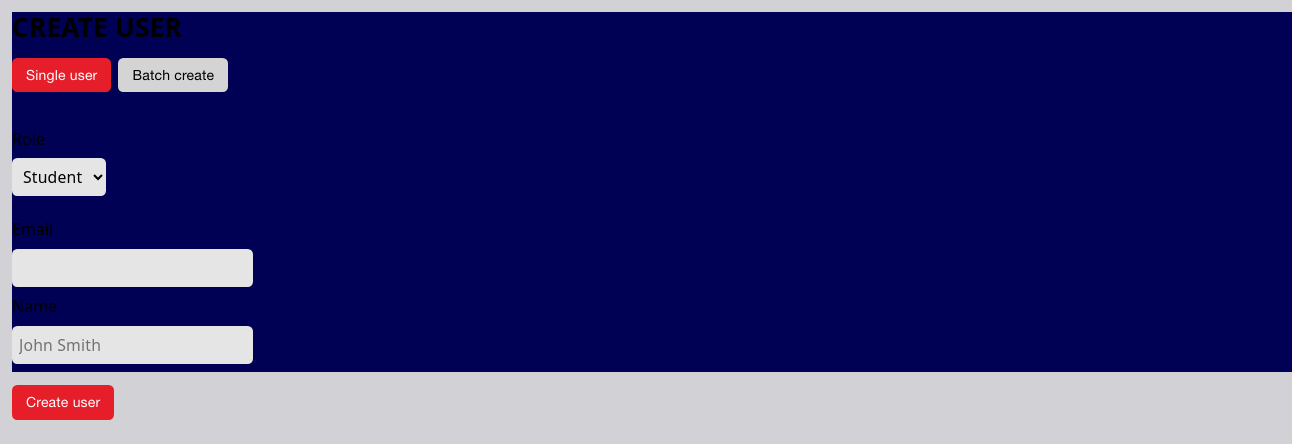
Test: CreateUserPage › batch create › can switch back to single user mode
Step 1. Click the button "Batch create" → point(173, 75), box left=118, top=58, right=228, bottom=92
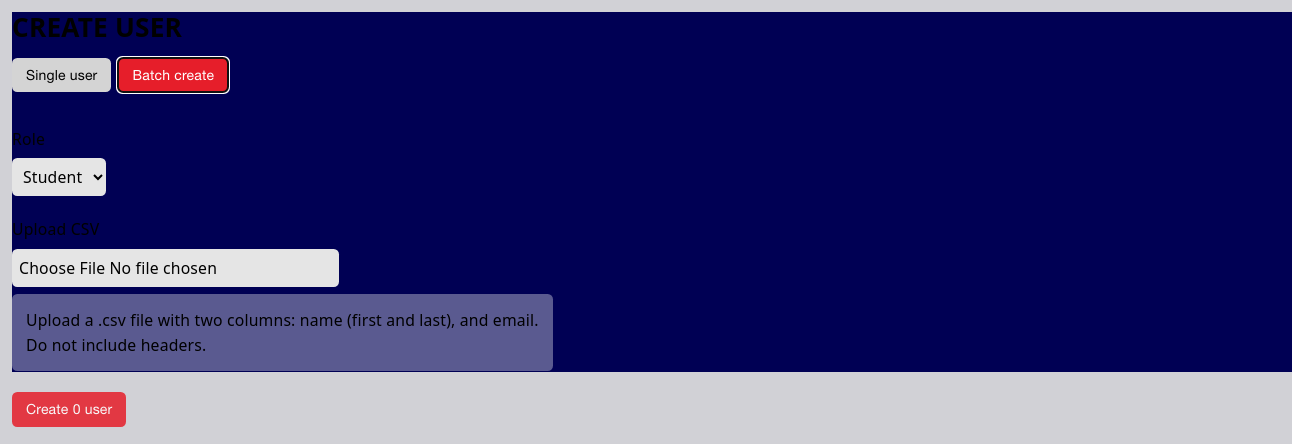
Step 2. Click the button "Single user" → point(62, 75), box left=12, top=58, right=112, bottom=92
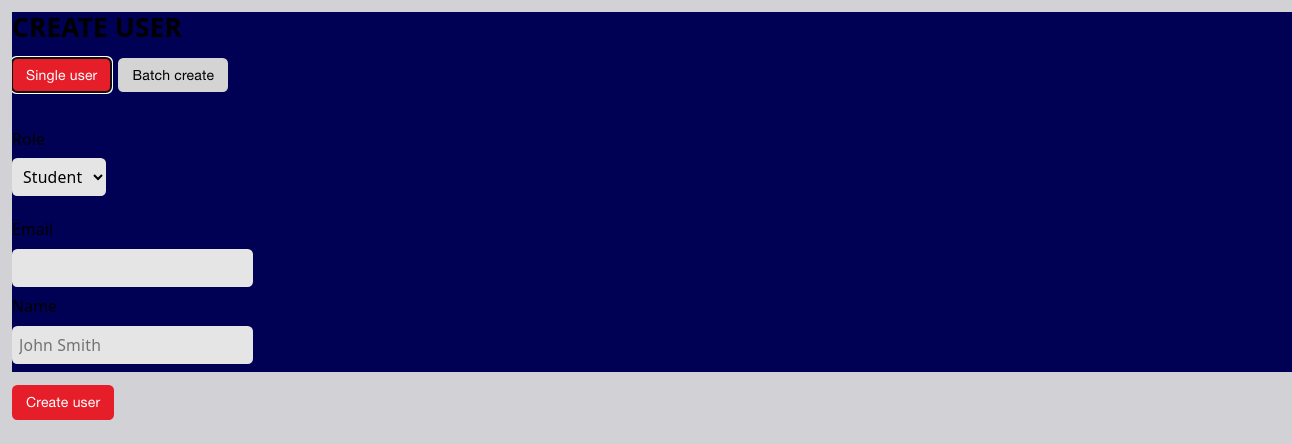
Check: the field with placeholder "John Smith" is shown, box left=12, top=326, right=253, bottom=364
